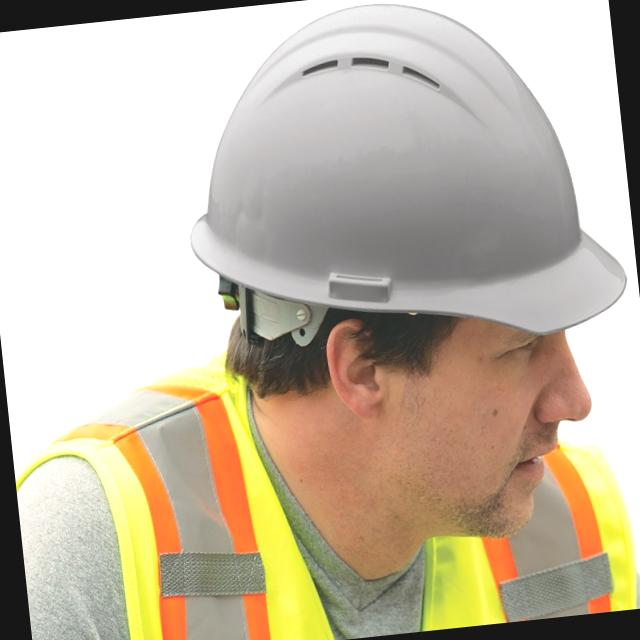helmet: (162, 0, 640, 363)
no-goggles: (364, 303, 640, 408)
vest: (38, 411, 640, 640)
